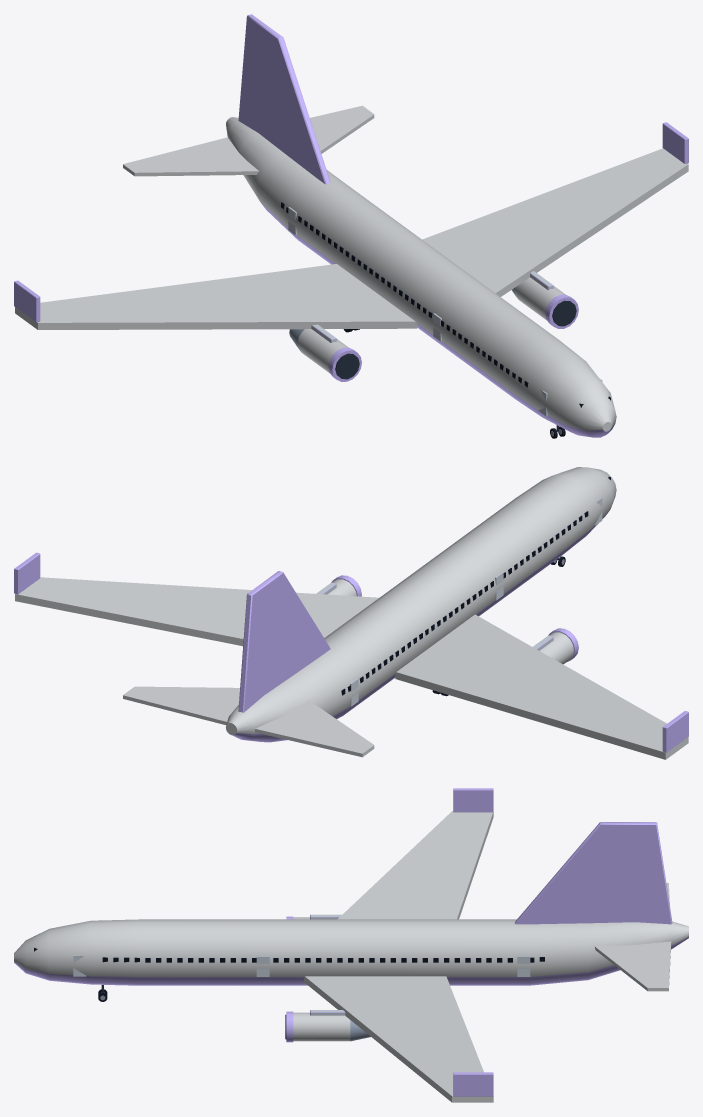
Rendered from passenger_jet.glb.
3 views of the same model, one above another, from view 1: azimuth 30°, elevation 25°; view 2: azimuth 150°, elevation 25°; view 3: azimuth 270°, elevation 25° (orthographic). The views are drawn at different scales.
Visible parts, largest first — view 1: passenger_jet; view 2: passenger_jet; view 3: passenger_jet.
Boxes of the visible parts, x1,y1,x2,y2 form: passenger_jet: (14, 14, 688, 438); passenger_jet: (14, 467, 688, 759); passenger_jet: (14, 788, 688, 1102).
Bounding box in the file's own units: 57.2 × 16.5 × 57.
